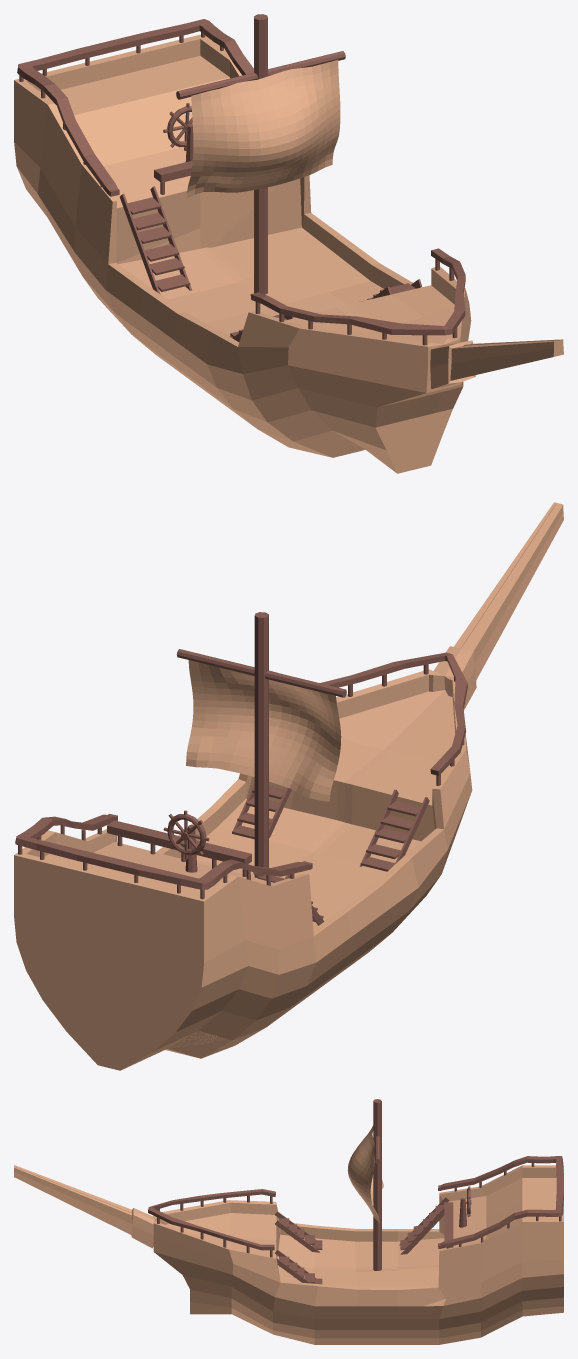
The model's file is Ship.glb.
3 views of the same model, one above another, from view 1: azimuth 30°, elevation 25°; view 2: azimuth 150°, elevation 25°; view 3: azimuth 270°, elevation 25° (orthographic). The views are drawn at different scales.
Parts seen in each view (by area): view 1: body1; view 2: body1; view 3: body1.
Boxes of the visible parts, bbox=[...] form: body1: bbox=[14, 14, 563, 473]; body1: bbox=[14, 502, 563, 1070]; body1: bbox=[14, 1099, 563, 1344].
Size of what is drawn, in the model's own units: 9.99 by 17.59 by 37.02.
2 materials, 2 textured.
